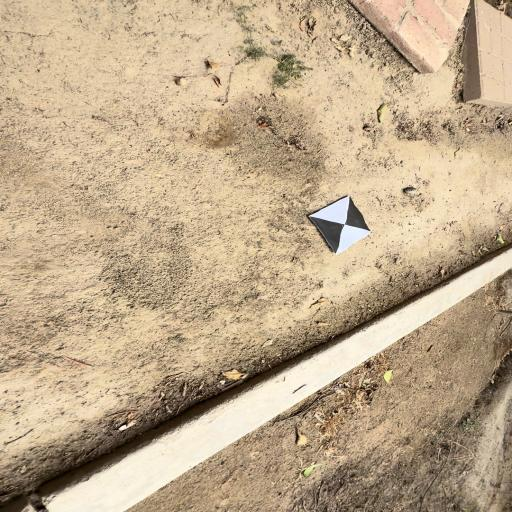target: (308, 196, 372, 254)
